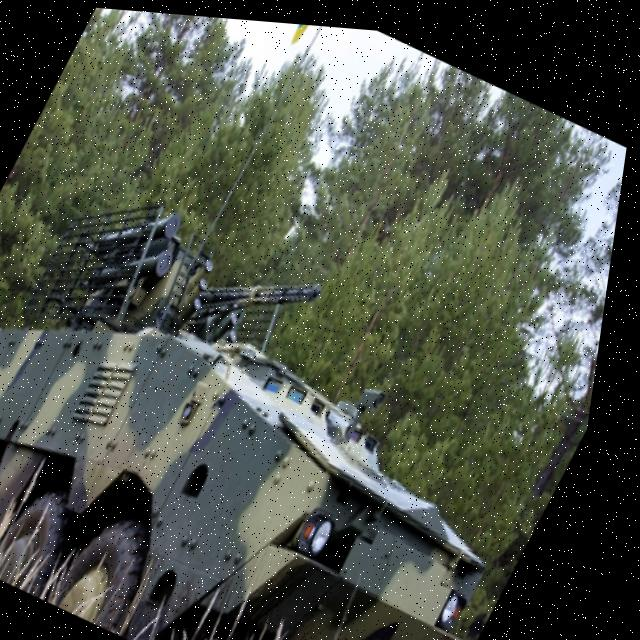MIL_APC: (0, 179, 606, 640)
